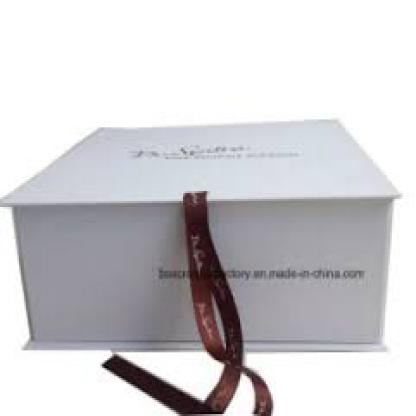CARDBOARD: (0, 118, 399, 348)
